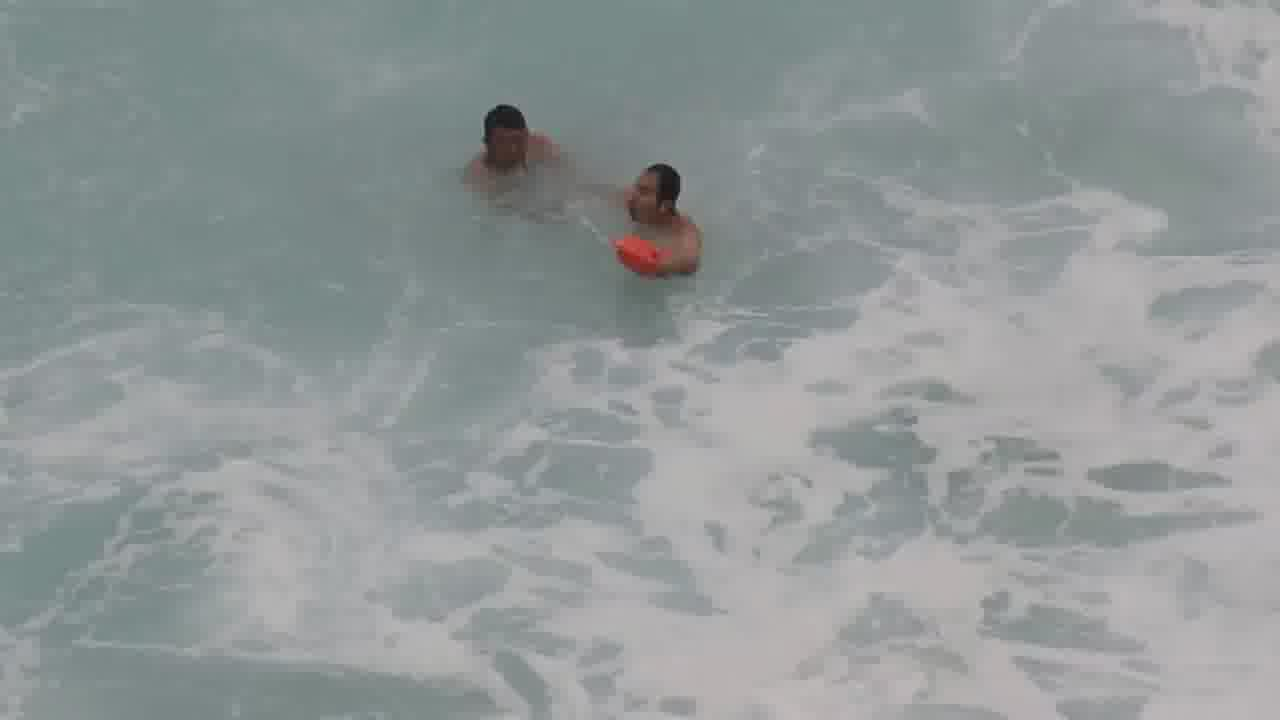swimmer: (614, 146, 711, 243), (462, 87, 546, 188)
